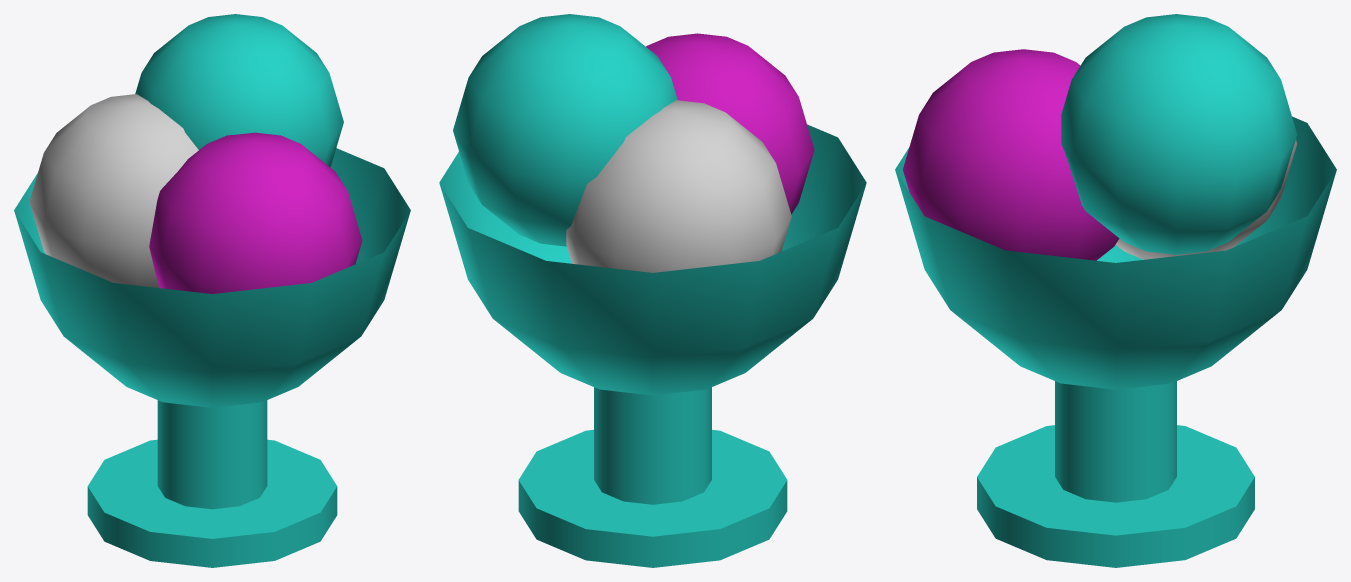
File: ice_2.fbx
The picture shows the model from 3 angles, left to right: view 1: azimuth 30°, elevation 25°; view 2: azimuth 150°, elevation 25°; view 3: azimuth 270°, elevation 25°; orthographic projection. The views are drawn at different scales.
Parts seen in each view (by area): view 1: ice_2; view 2: ice_2; view 3: ice_2.
Boxes of the visible parts, x1,y1,x2,y2 form: ice_2: (14, 14, 410, 567); ice_2: (439, 14, 866, 567); ice_2: (895, 14, 1336, 567).
Bounding box in the file's own units: 94.4 × 124 × 94.4.
